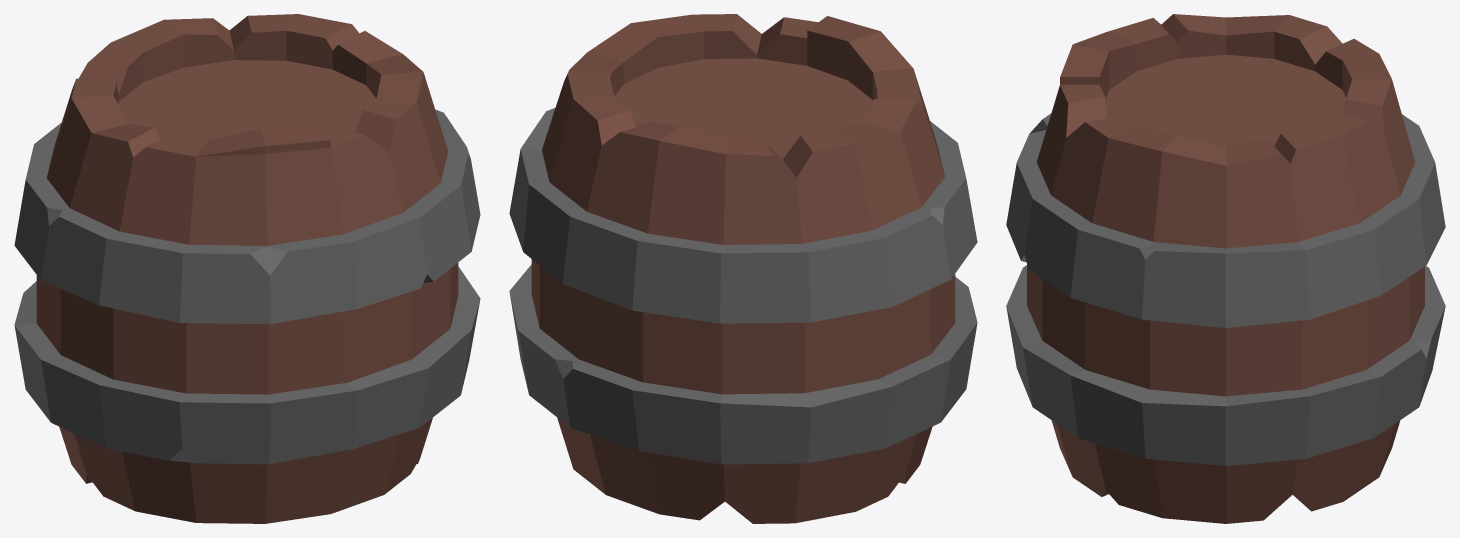
File: barrel3.fbx
The picture shows the model from 3 angles, left to right: view 1: azimuth 30°, elevation 25°; view 2: azimuth 150°, elevation 25°; view 3: azimuth 270°, elevation 25°; orthographic projection.
Parts seen in each view (by area): view 1: Cylinder; view 2: Cylinder; view 3: Cylinder.
Boxes of the visible parts, x1,y1,x2,y2 form: Cylinder: (14, 14, 480, 523); Cylinder: (509, 14, 977, 523); Cylinder: (1006, 14, 1445, 523).
Size of the model in its own units: 259 by 227 by 241.
